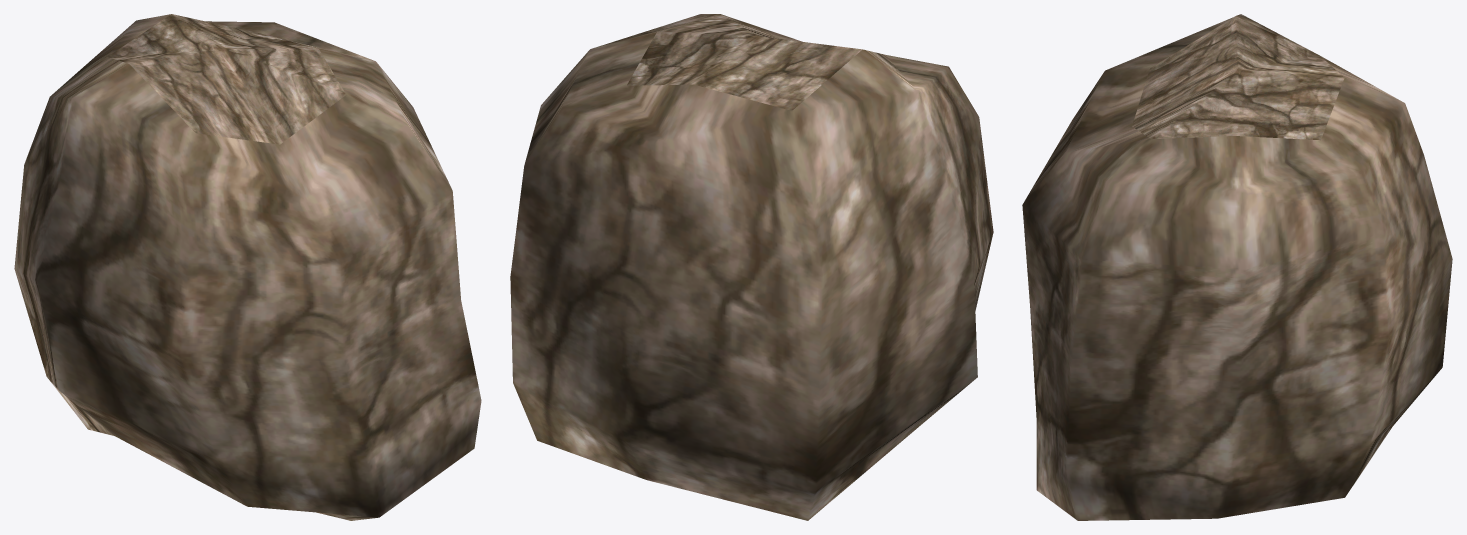
The model's file is INST_EKH_ROCKB.fbx.
The picture shows the model from 3 angles, left to right: view 1: azimuth 30°, elevation 25°; view 2: azimuth 150°, elevation 25°; view 3: azimuth 270°, elevation 25°; orthographic projection. The views are drawn at different scales.
Parts seen in each view (by area): view 1: INST_EKH_ROCKB; view 2: INST_EKH_ROCKB; view 3: INST_EKH_ROCKB.
Boxes of the visible parts, left/top/right/bottom form: INST_EKH_ROCKB: left=14, top=14, right=481, bottom=520; INST_EKH_ROCKB: left=510, top=14, right=993, bottom=520; INST_EKH_ROCKB: left=1022, top=14, right=1452, bottom=520.
Bounding box in the file's own units: 20540 × 22260 × 20364.
1 material, 1 textured.
